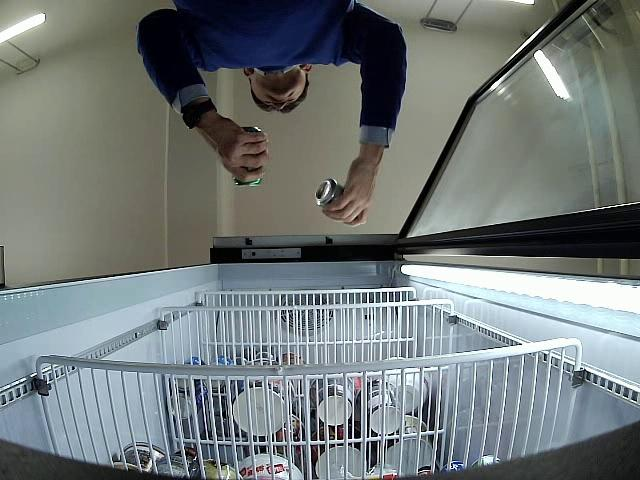00_hand: (322, 148, 383, 226), (203, 113, 268, 182)
12_chilsungCider: (233, 124, 262, 186), (315, 180, 344, 205)
